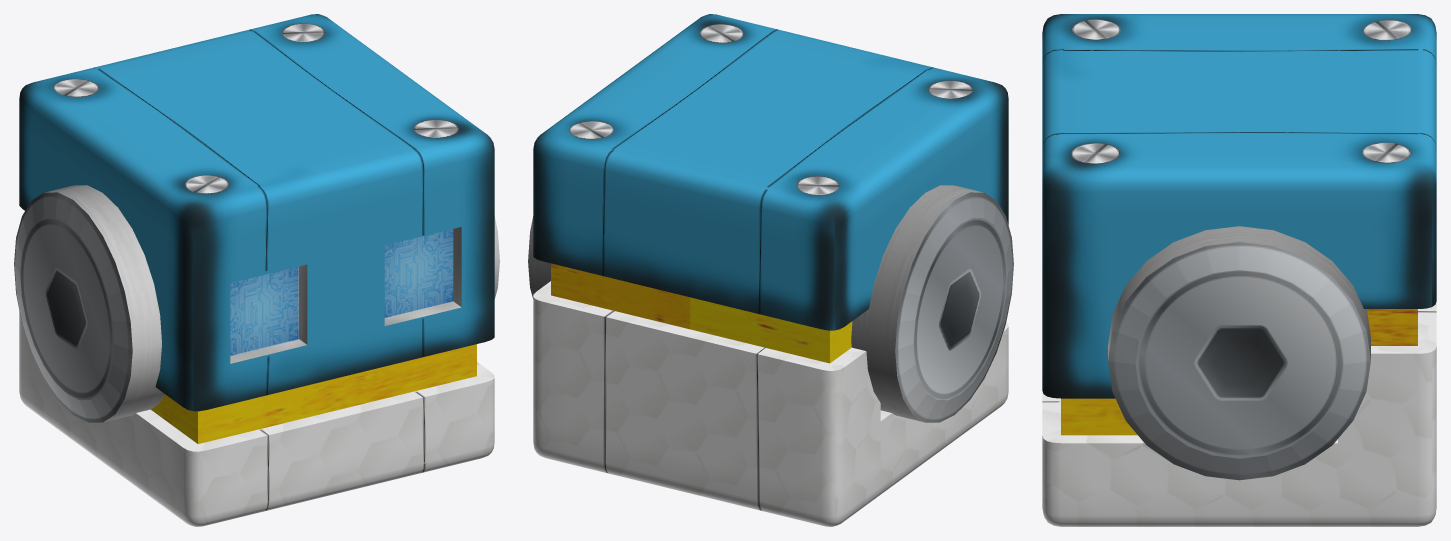
The model's file is HeadCore_Blue.fbx.
3 renders of one model, left to right at view 1: azimuth 30°, elevation 25°; view 2: azimuth 150°, elevation 25°; view 3: azimuth 270°, elevation 25°, orthographic. The views are drawn at different scales.
Visible parts, largest first — view 1: Head_Core; view 2: Head_Core; view 3: Head_Core.
Boxes of the visible parts, x1=… form: Head_Core: x1=14, y1=14, x2=499, y2=526; Head_Core: x1=528, y1=14, x2=1013, y2=526; Head_Core: x1=1042, y1=14, x2=1436, y2=526.
Bounding box in the file's own units: 258 × 210 × 210.
Materials: 1 (1 with a texture image).
